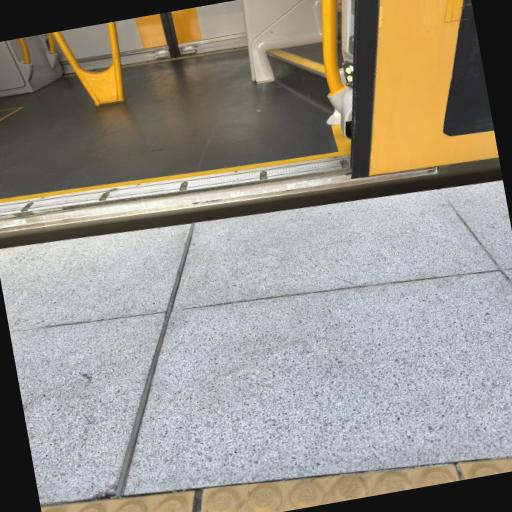gap: (0, 168, 502, 247)
